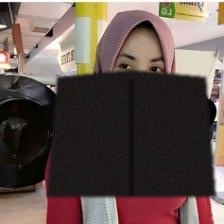Cadar_Niqab: (46, 8, 215, 196)
